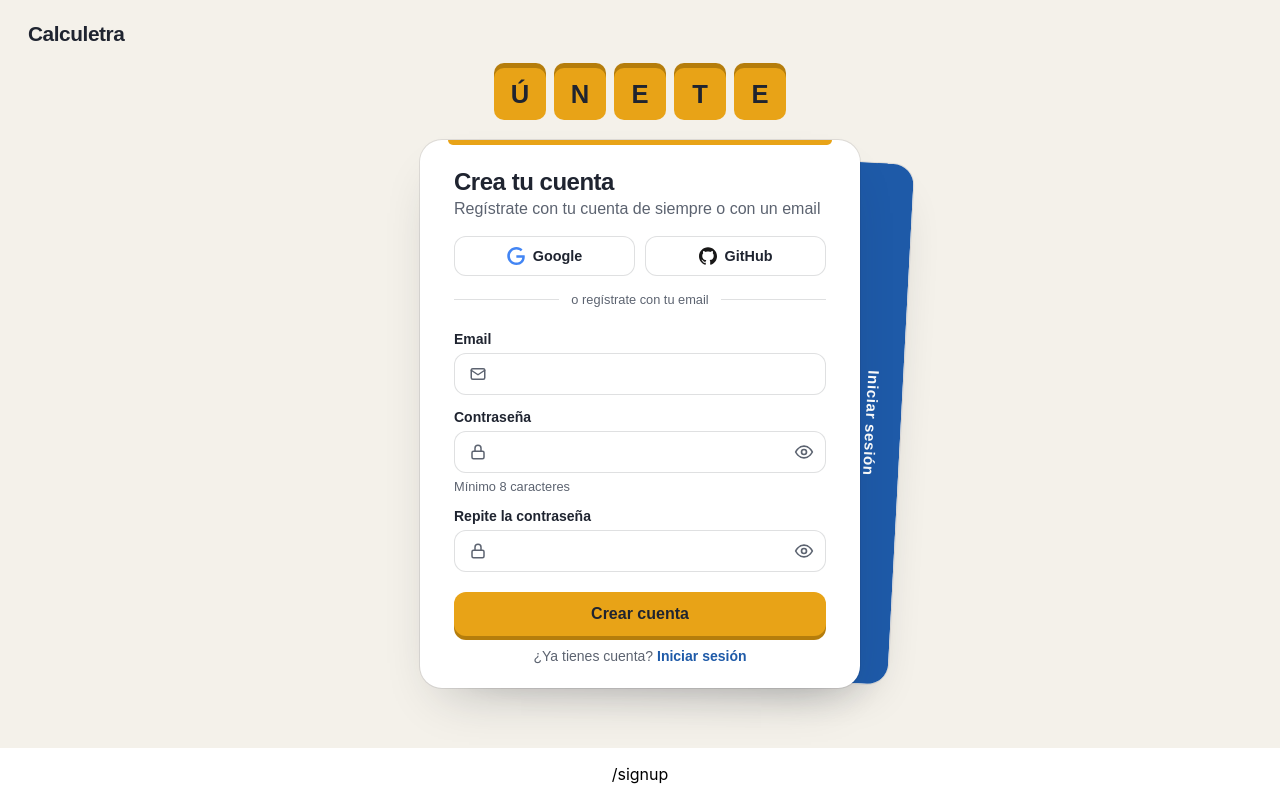
Test: AuthPage › switches back to log in from the spine and updates the URL
The image size is (1280, 800).
Click the button with aria-label "Ir a iniciar sesión".
click(870, 423)  # box left=826, top=162, right=914, bottom=685
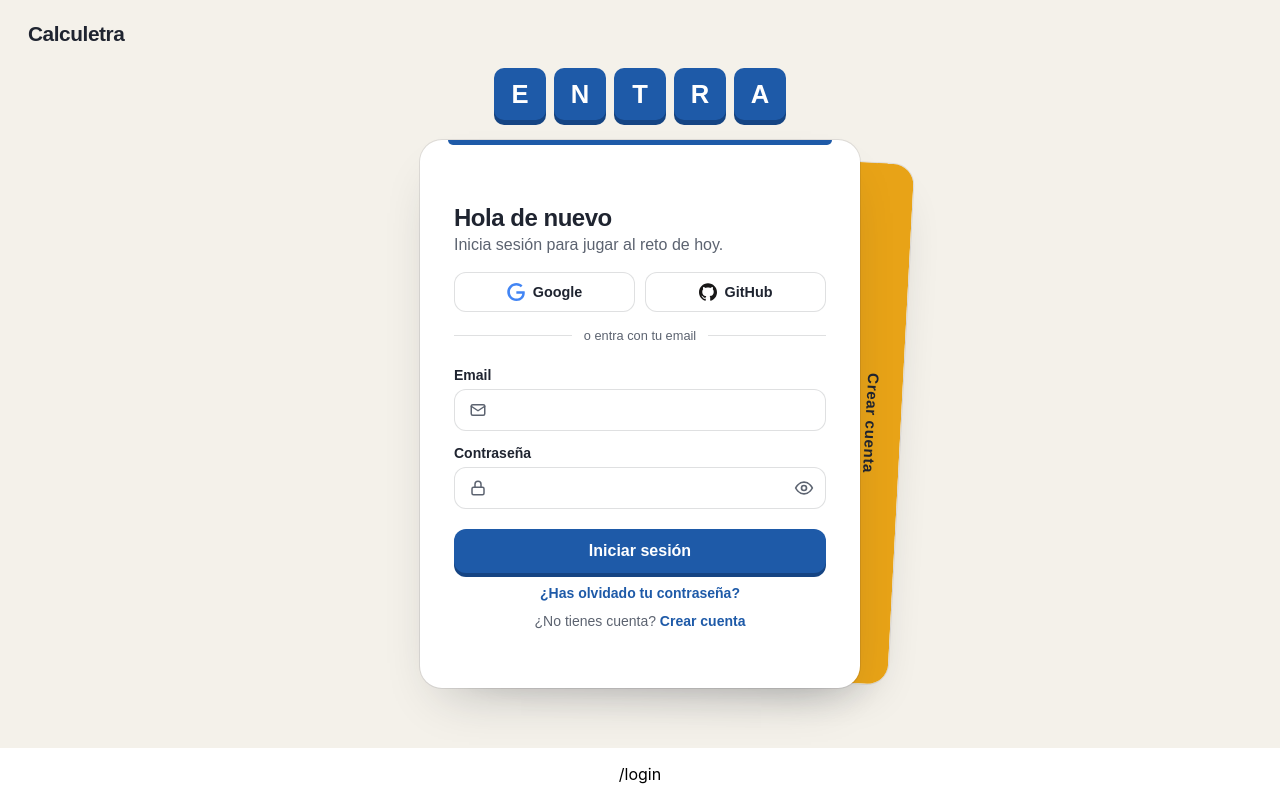
Expected: the text with test id "path" reads "/login", left=619, top=764, right=661, bottom=784
